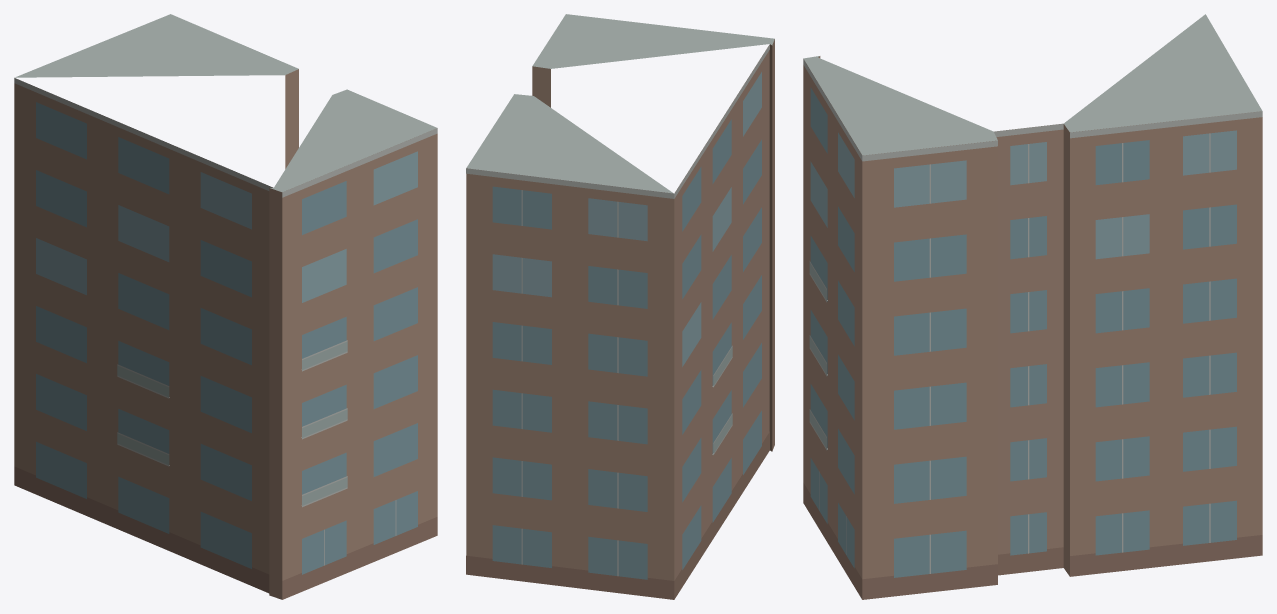
Rendered from survey-upis-32651272.glb.
3 views of the same model, side by side, from view 1: azimuth 30°, elevation 25°; view 2: azimuth 150°, elevation 25°; view 3: azimuth 270°, elevation 25° (orthographic). The views are drawn at different scales.
Visible parts, largest first — view 1: survey-upis-32651272.tmp; view 2: survey-upis-32651272.tmp; view 3: survey-upis-32651272.tmp.
Part boxes in pixels (x1,y1,x2,y2): survey-upis-32651272.tmp: (14, 14, 437, 599); survey-upis-32651272.tmp: (466, 14, 774, 599); survey-upis-32651272.tmp: (803, 14, 1262, 599).
Bounding box in the file's own units: 12.51 × 18.3 × 17.15.
